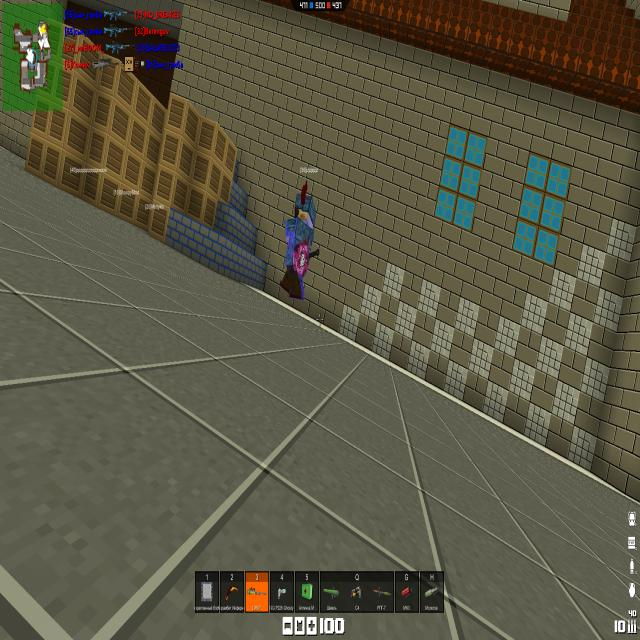player: (279, 182, 318, 303)
